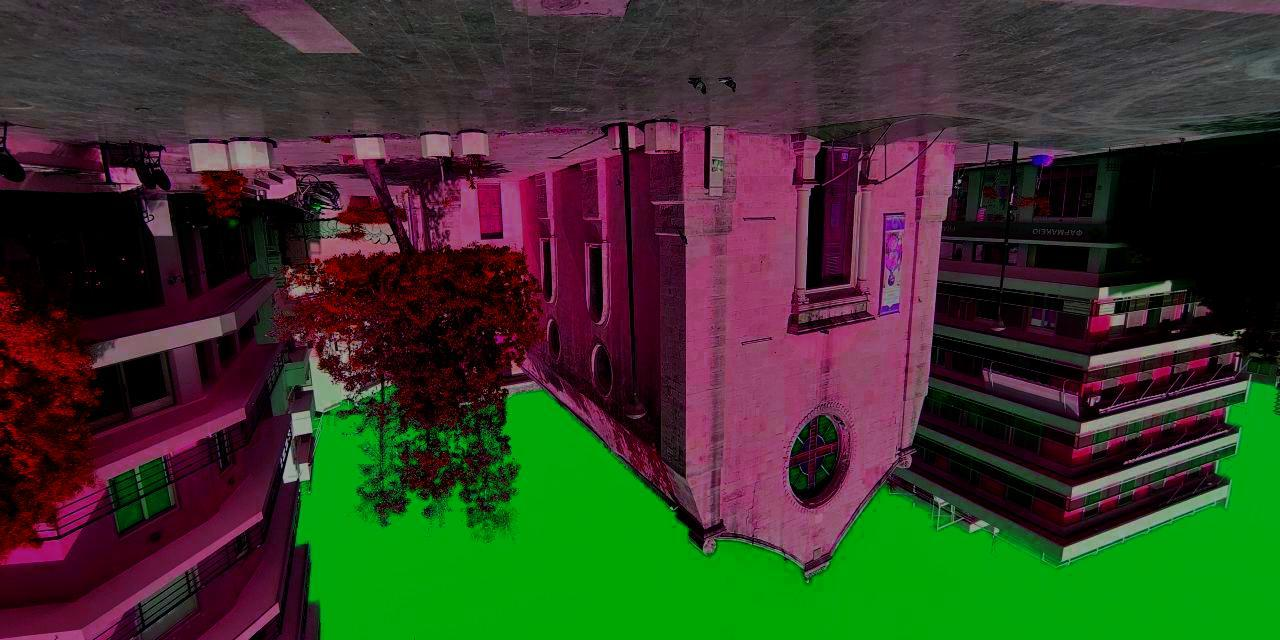Agia Aikaterini: (520, 143, 960, 584)
